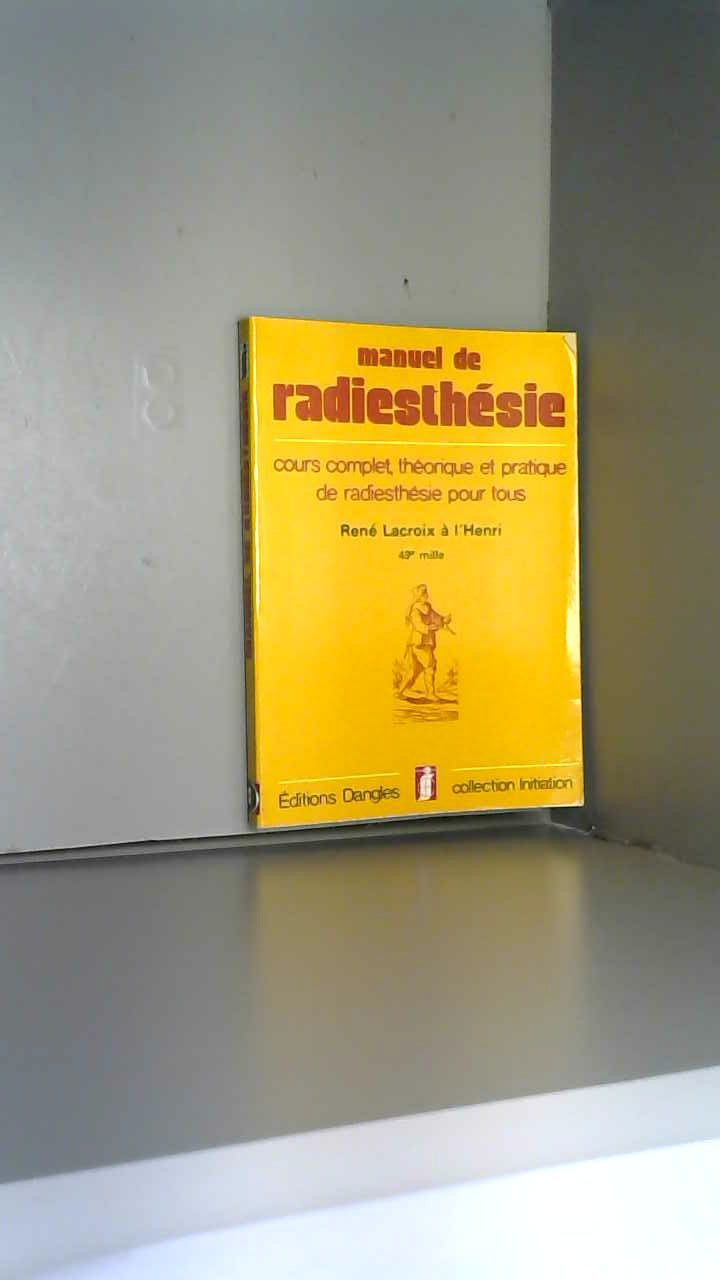book: (222, 300, 607, 847)
